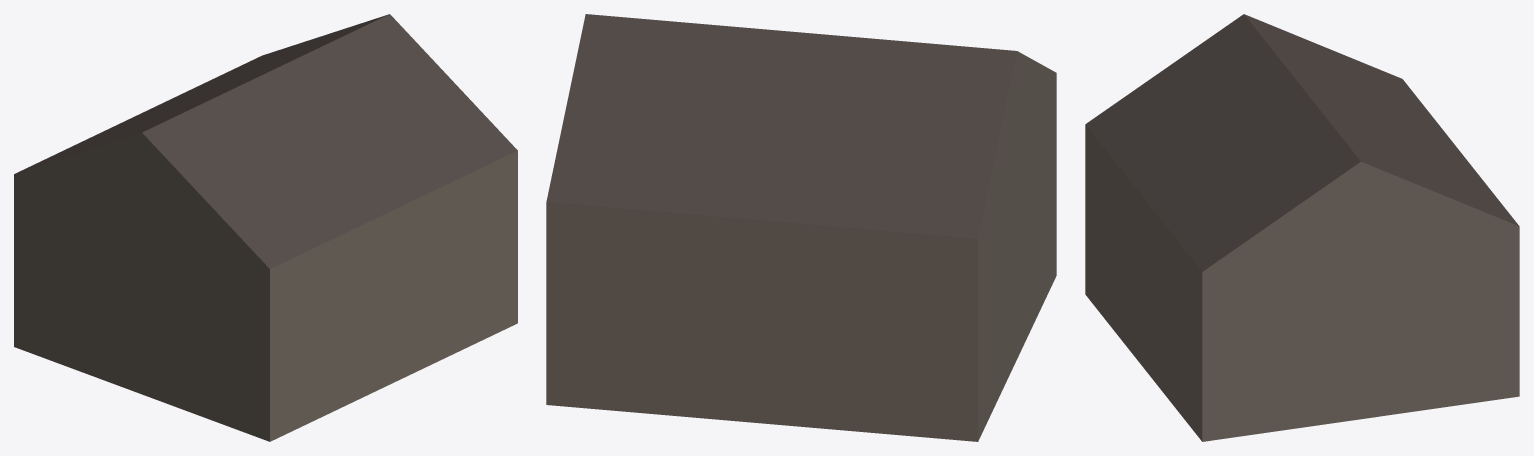
3 renders of one model, left to right at view 1: azimuth 30°, elevation 25°; view 2: azimuth 150°, elevation 25°; view 3: azimuth 270°, elevation 25°, orthographic. The views are drawn at different scales.
Parts seen in each view (by area): view 1: HP-w505650486; view 2: HP-w505650486; view 3: HP-w505650486.
Part boxes in pixels (<box>): HP-w505650486: <box>14,14,517,441</box>; HP-w505650486: <box>546,14,1056,441</box>; HP-w505650486: <box>1085,14,1519,441</box>.
Size of the model in its own units: 14.62 by 9.1 by 13.9.
